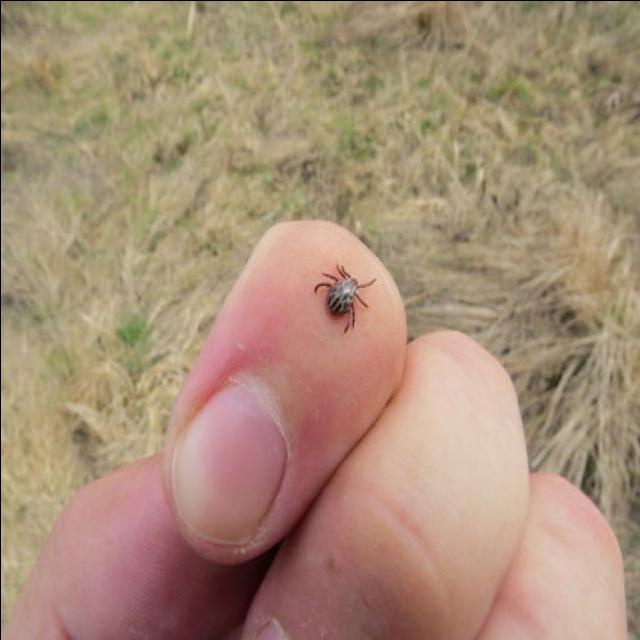Dermacentor Reticulatus-M: (312, 263, 376, 333)
